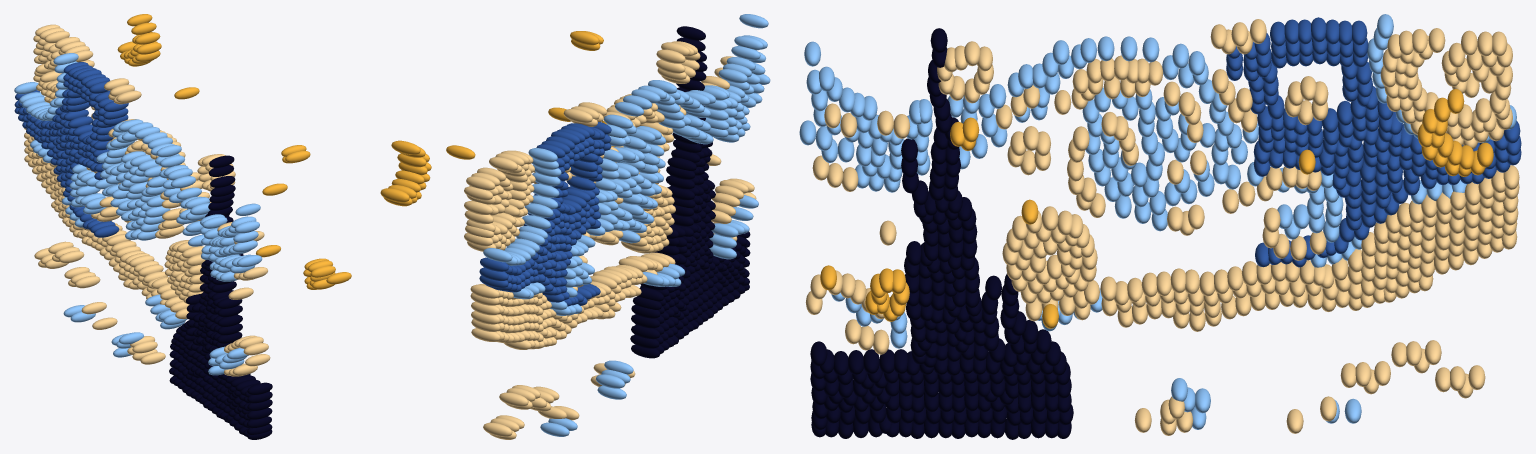
3 renders of one model, left to right at view 1: azimuth 30°, elevation 25°; view 2: azimuth 150°, elevation 25°; view 3: azimuth 270°, elevation 25°, orthographic. The views are drawn at different scales.
Visible parts, largest first — view 1: Cube.204, Cube.126, Cube.231, Cube.050, Cube.210, Cube.143, Cube.006, Cube.212, Cube.025, Cube.147, Cube.245, Cube.099; view 2: Cube.204, Cube.126, Cube.050, Cube.231, Cube.006, Cube.143, Cube.099, Cube.210, Cube.212, Cube.245, Cube.147; view 3: Cube.204, Cube.126, Cube.210, Cube.050, Cube.143, Cube.231, Cube.006, Cube.147, Cube.099, Cube.212, Cube.025, Cube.103 (+2 smaller).
Boxes of the visible parts, x1,y1,x2,y2 form: Cube.204: (169,155,272,439); Cube.126: (24,128,189,319); Cube.231: (34,241,165,364); Cube.050: (33,24,94,103); Cube.210: (85,119,209,238); Cube.143: (164,240,205,303); Cube.006: (117,14,161,66); Cube.212: (224,335,270,376); Cube.025: (303,258,335,289); Cube.147: (217,222,267,299); Cube.245: (104,78,141,104); Cube.099: (197,154,235,191); Cube.204: (630,26,750,358); Cube.126: (470,252,675,349); Cube.050: (464,150,535,251); Cube.231: (483,363,635,439); Cube.006: (380,140,431,206); Cube.143: (621,184,675,253); Cube.099: (656,41,700,83); Cube.210: (570,94,686,291); Cube.212: (711,178,756,241); Cube.245: (563,102,607,126); Cube.147: (701,56,732,165); Cube.204: (810,28,1073,439); Cube.126: (1025,165,1519,331); Cube.210: (995,55,1326,260); Cube.050: (1380,28,1512,148); Cube.143: (1002,206,1097,303); Cube.231: (1134,340,1485,435); Cube.006: (1417,89,1493,176); Cube.147: (812,103,910,245); Cube.099: (937,41,993,103); Cube.212: (805,270,889,354); Cube.025: (865,268,909,321); Cube.103: (1007,126,1050,175).
Bounding box in the file's own units: 6.5 × 13.37 × 21.37.
